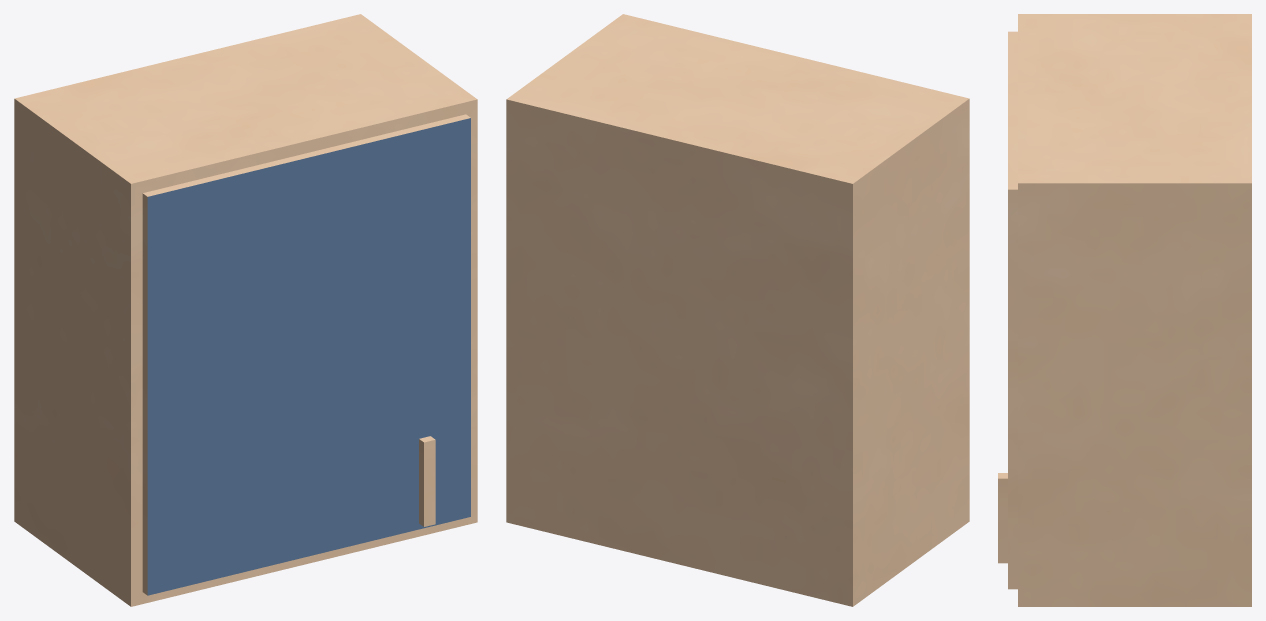
The model's file is Kitchen_Cabinet_Wall.fbx.
3 views of the same model, side by side, from view 1: azimuth 30°, elevation 25°; view 2: azimuth 150°, elevation 25°; view 3: azimuth 270°, elevation 25° (orthographic).
Parts seen in each view (by area): view 1: Kitchen_Cabinet_Wall; view 2: Kitchen_Cabinet_Wall; view 3: Kitchen_Cabinet_Wall.
Part boxes in pixels (left/top/right/bottom): Kitchen_Cabinet_Wall: left=14, top=14, right=477, bottom=606; Kitchen_Cabinet_Wall: left=506, top=14, right=969, bottom=606; Kitchen_Cabinet_Wall: left=998, top=14, right=1251, bottom=606.
Bounding box in the file's own units: 0.6 × 0.7 × 0.38.
Materials: 1 (1 with a texture image).
